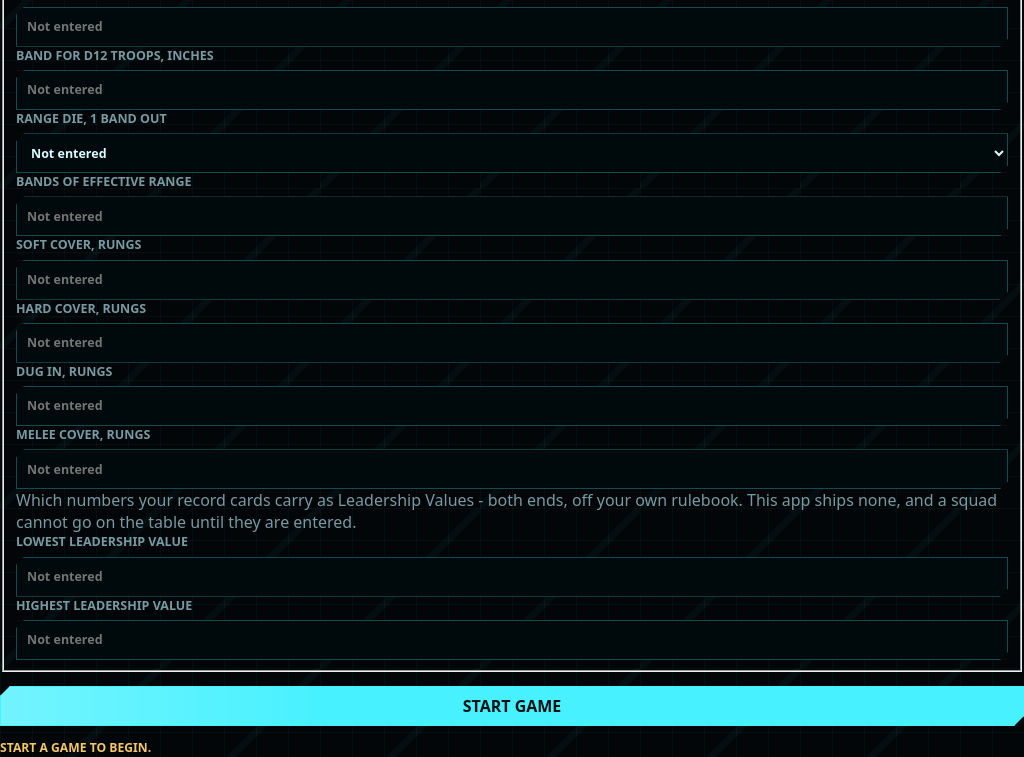
it: StarGrunt range table › starts a game with no table at all when nothing was entered
(page scrolled)
Click the button "Start Game" at (512, 706), box x1=0 y1=686 x2=1023 y2=726
(page scrolled)
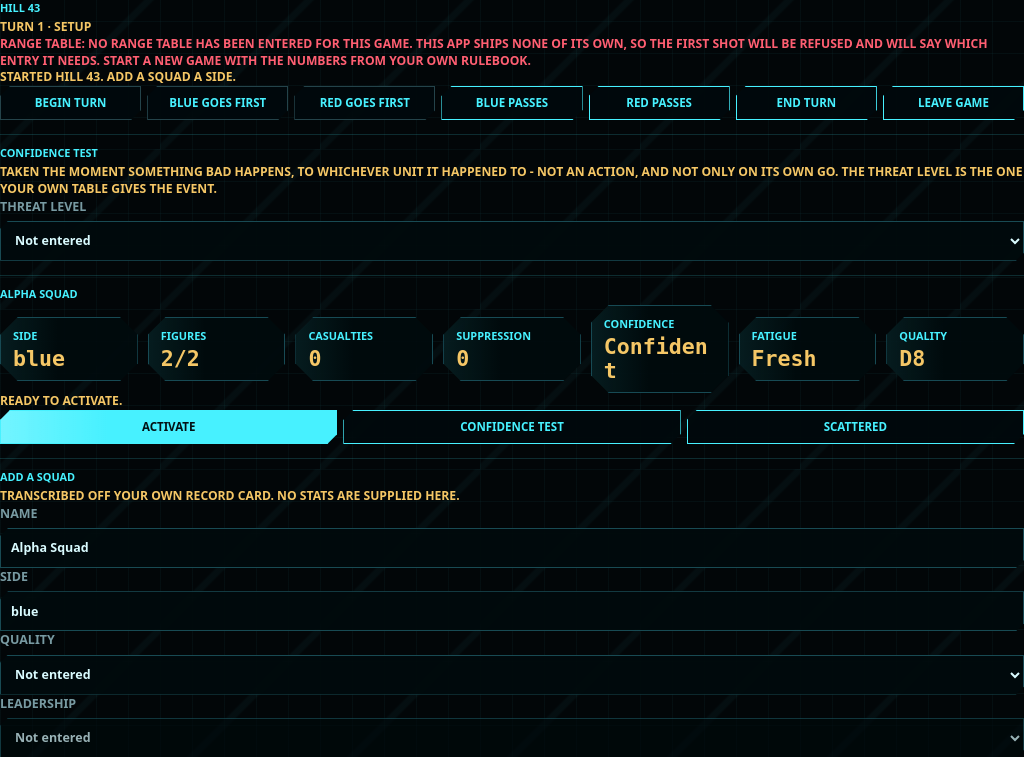
Expected: the text "Started Hill 43. Add a squad a side." is shown, x1=0 y1=68 x2=236 y2=85
Expected: the text "Range table:" shows "first shot will be refused", x1=0 y1=35 x2=988 y2=69
